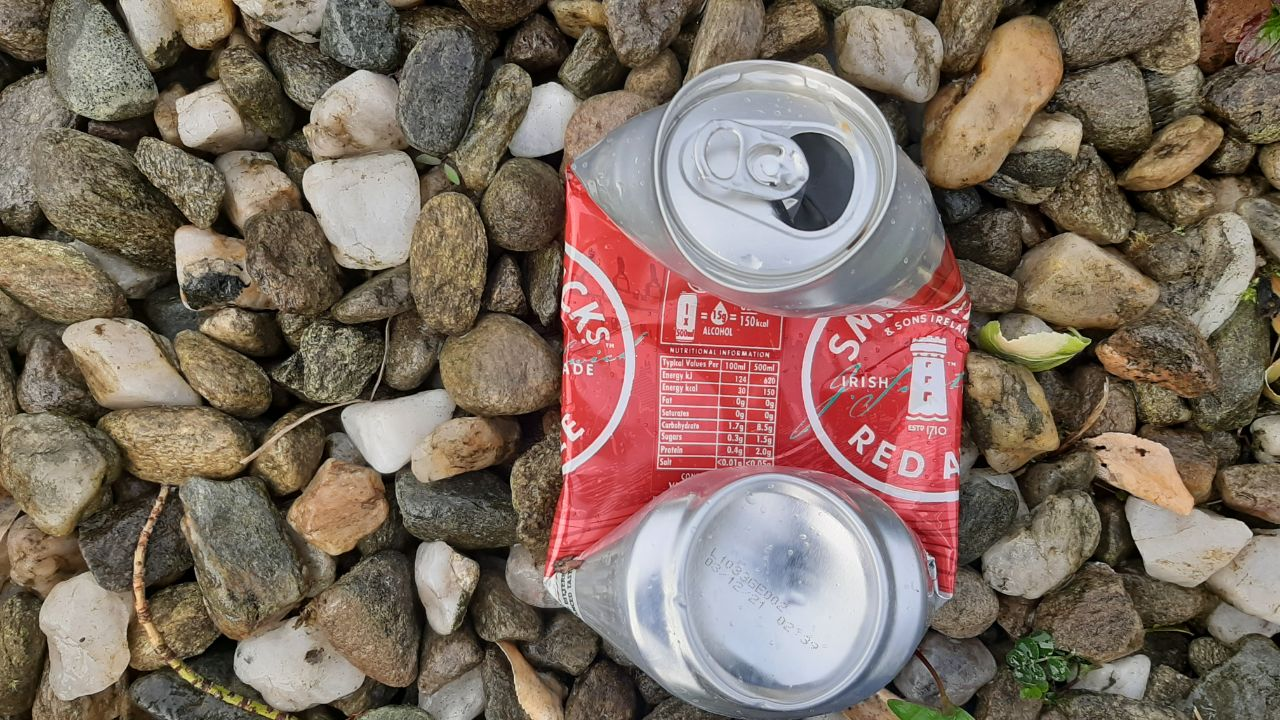Can: (544, 58, 971, 716)
